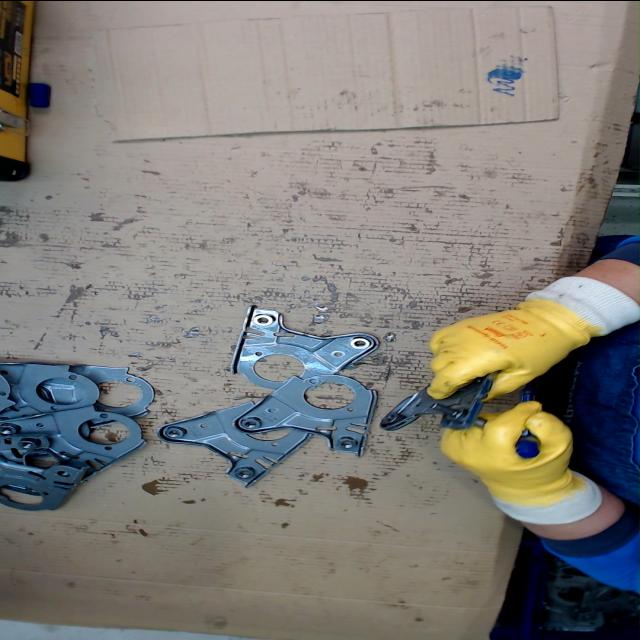hands: (427, 296, 589, 400), (439, 400, 577, 498)
